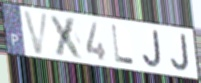4: (84, 20, 107, 62)
J: (141, 29, 163, 70), (169, 33, 191, 73)
L: (110, 23, 136, 66)
V: (22, 9, 51, 57)
X: (48, 13, 86, 62)
